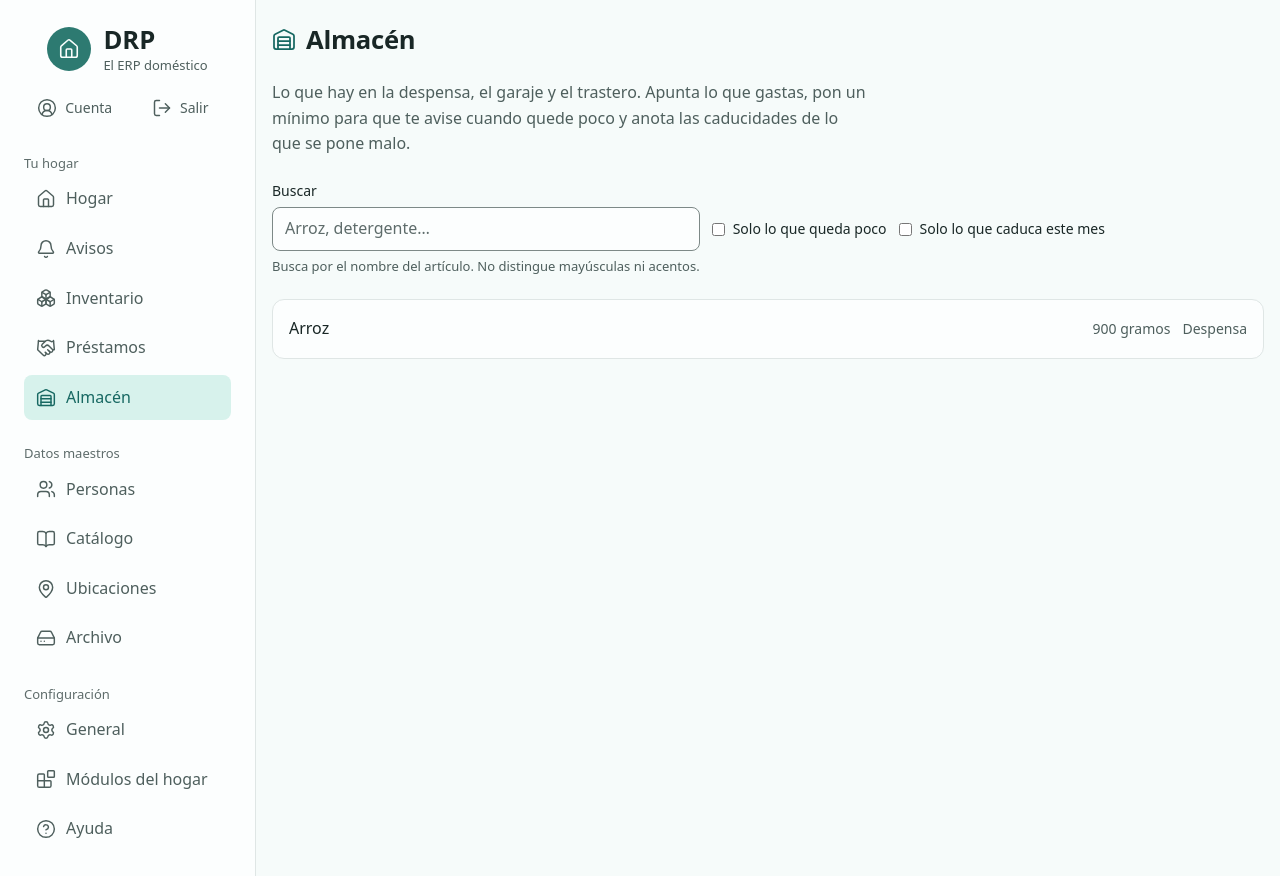
Test case: el Combobox de búsqueda › la lista es un listbox con opciones, no un montón de divs
Expected: the heading "Almacén" is shown, [306,24,415,56]
Step 1. Click the dropdown labelled "Buscar" → (486, 229), box [272,207,700,251]
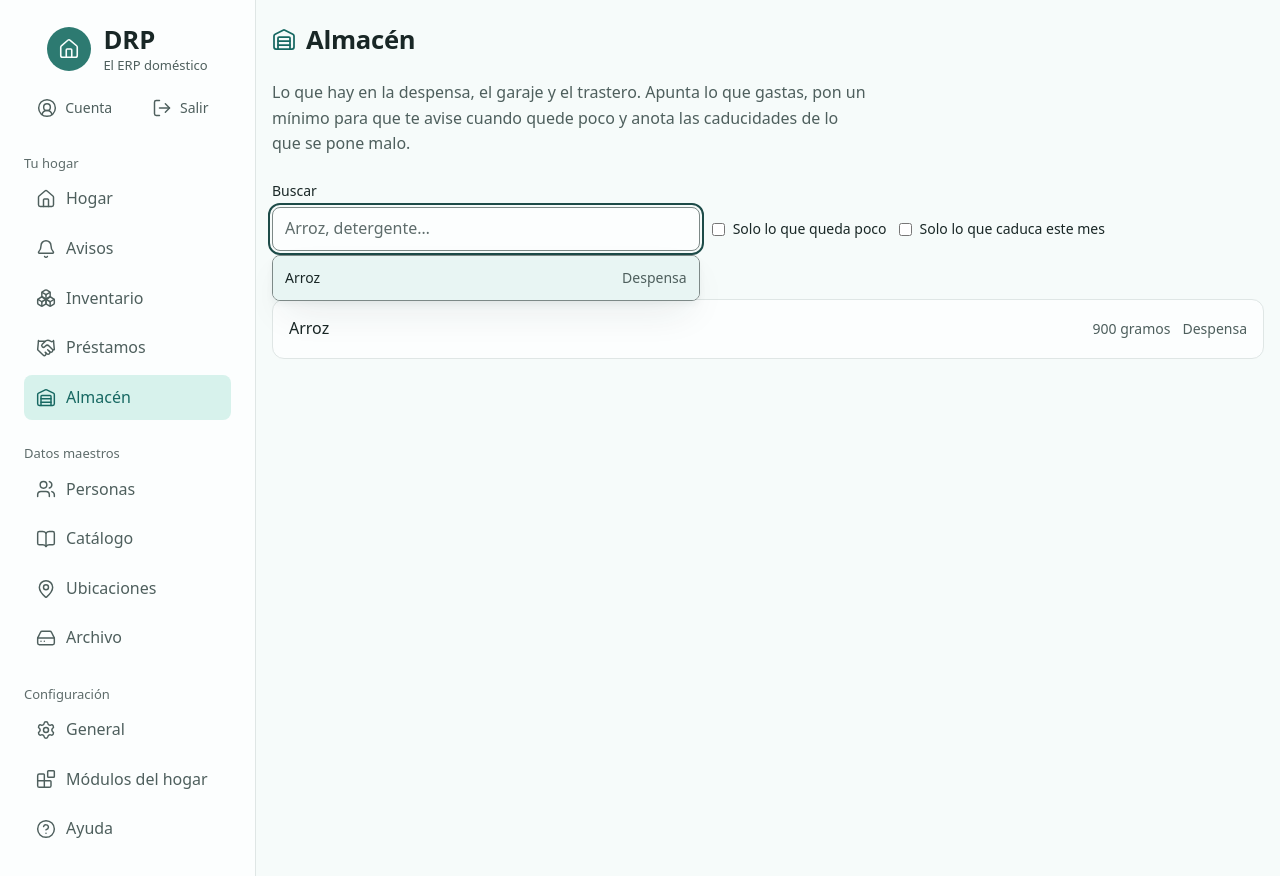
Now the option "Arroz Despensa" is shown, box [273,256,699,300]
